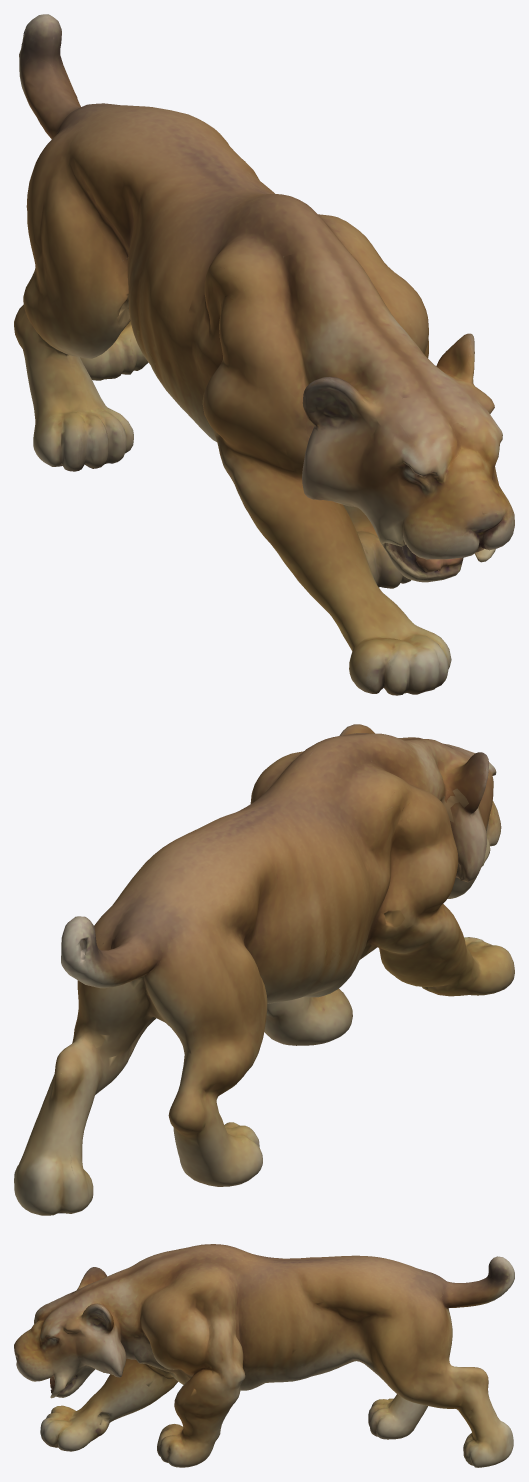
The picture shows the model from 3 angles, top to bottom: view 1: azimuth 30°, elevation 25°; view 2: azimuth 150°, elevation 25°; view 3: azimuth 270°, elevation 25°; orthographic projection. The views are drawn at different scales.
Parts seen in each view (by area): view 1: world; view 2: world; view 3: world.
Part boxes in pixels (left/top/right/bottom): world: left=14, top=14, right=514, bottom=695; world: left=14, top=724, right=514, bottom=1215; world: left=14, top=1244, right=514, bottom=1467.
Size of the model in its own units: 0.6123 by 0.9378 by 2.1.
Materials: 1 (1 with a texture image).
